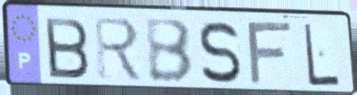B: (142, 17, 196, 86), (42, 15, 92, 81)
F: (245, 20, 295, 88)
L: (302, 21, 342, 88)
R: (91, 15, 145, 84)
S: (197, 19, 244, 85)
